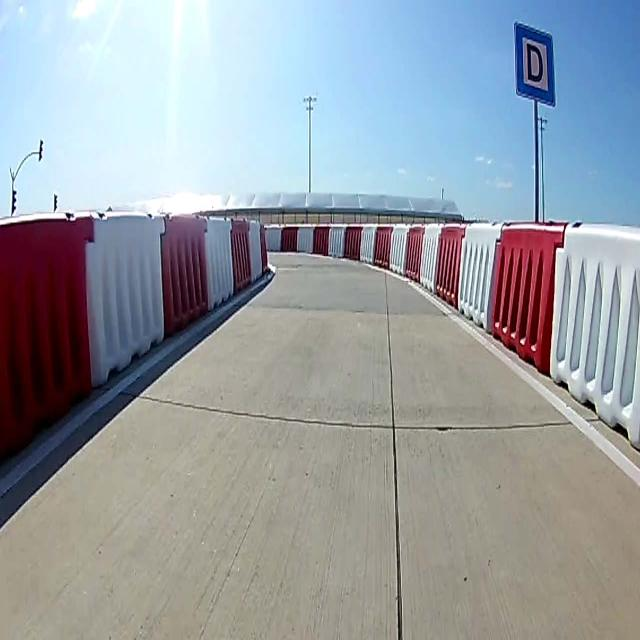durak: (515, 20, 555, 109)
